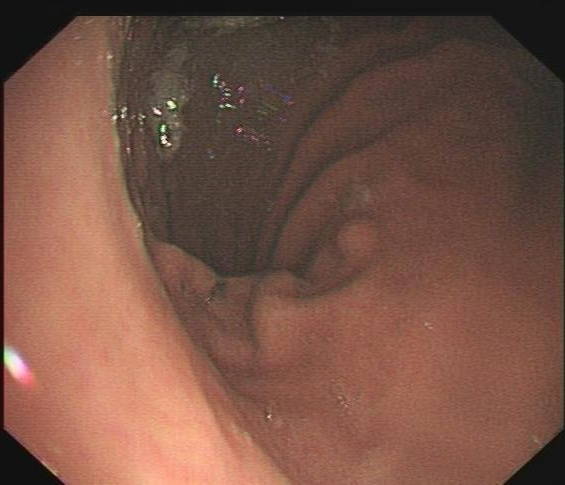Polyp: (326, 215, 384, 270)
